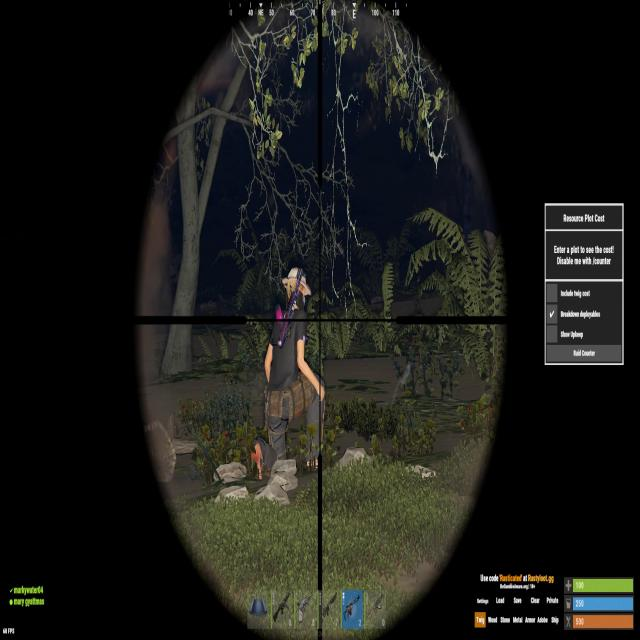Player: (250, 266, 326, 480)
